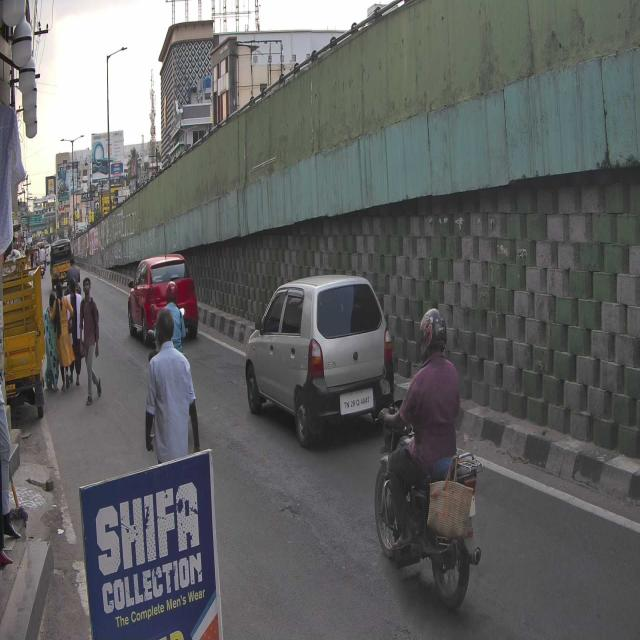single_rider: (372, 308, 482, 610)
